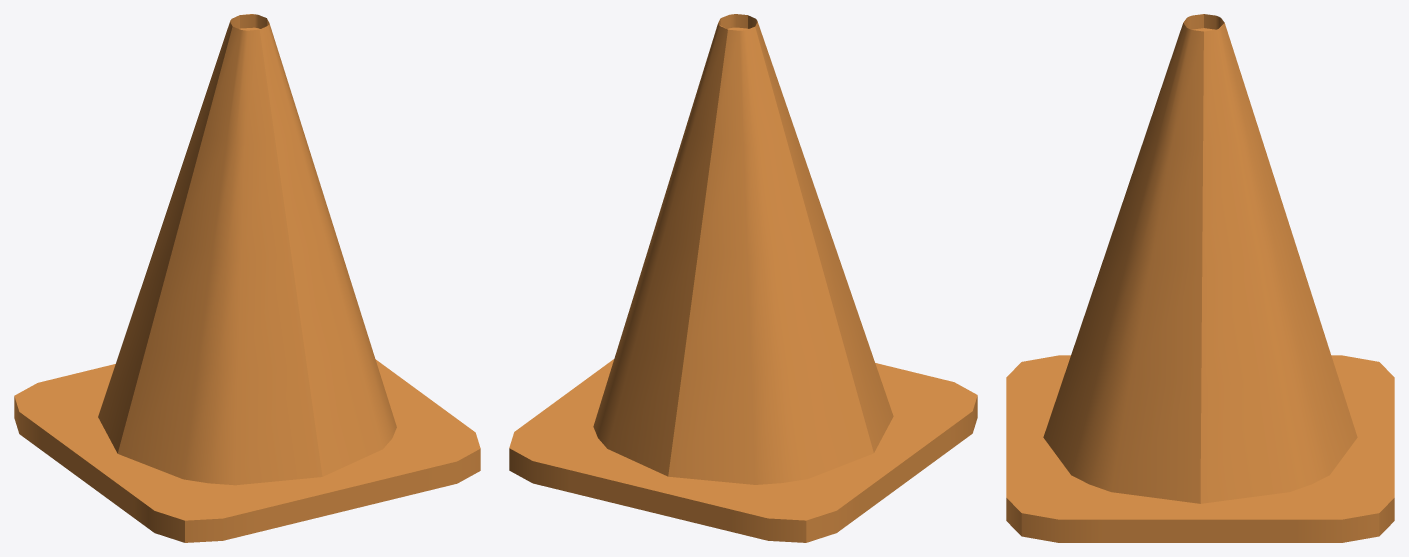
The model's file is Cono (1).fbx.
The picture shows the model from 3 angles, left to right: view 1: azimuth 30°, elevation 25°; view 2: azimuth 150°, elevation 25°; view 3: azimuth 270°, elevation 25°; orthographic projection. The views are drawn at different scales.
Visible parts, largest first — view 1: Plane; view 2: Plane; view 3: Plane.
Part boxes in pixels (x1,y1,x2,y2): Plane: (14,14,480,542); Plane: (509,14,977,542); Plane: (1006,14,1394,542).
Bounding box in the file's own units: 188 × 235 × 188.
